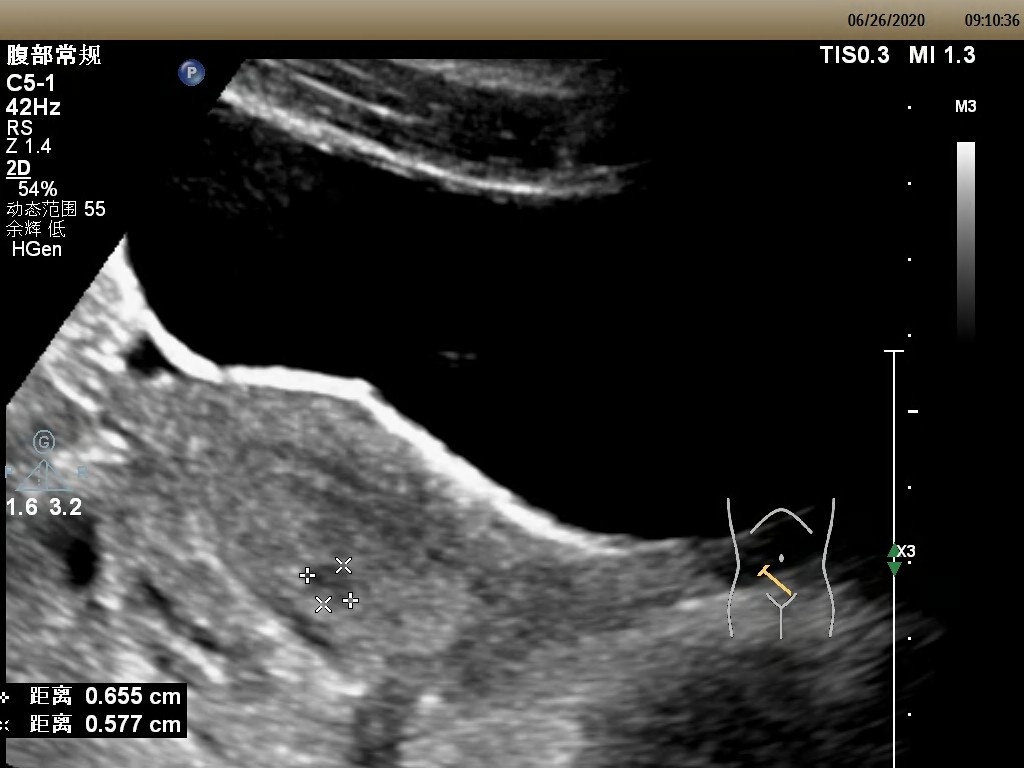肌瘤: (307, 568, 353, 609)
